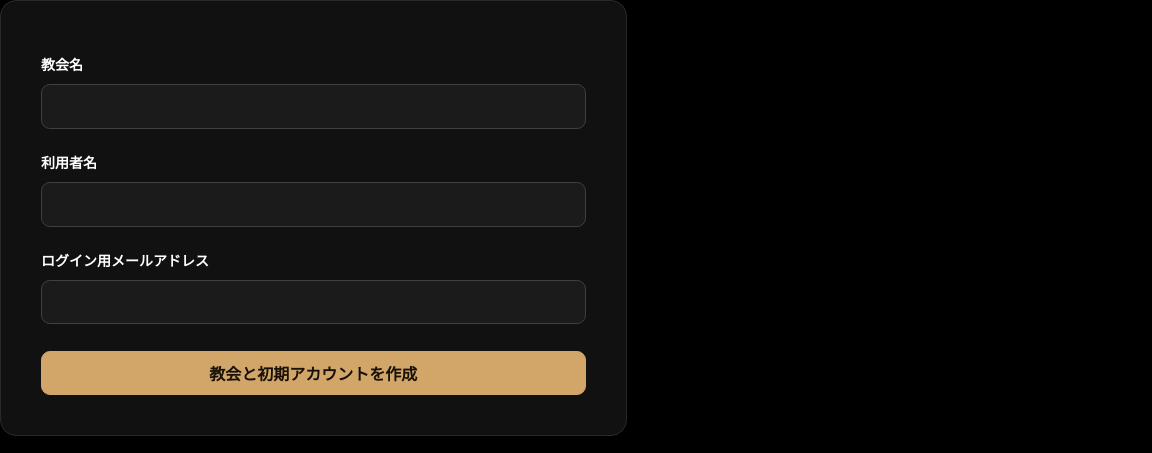
it: ProvisionChurchForm › shows the invitation destination and 72-hour validity
Type "テスト教会" into the field labelled "教会名" at (313, 106), box [41,84,586,129]
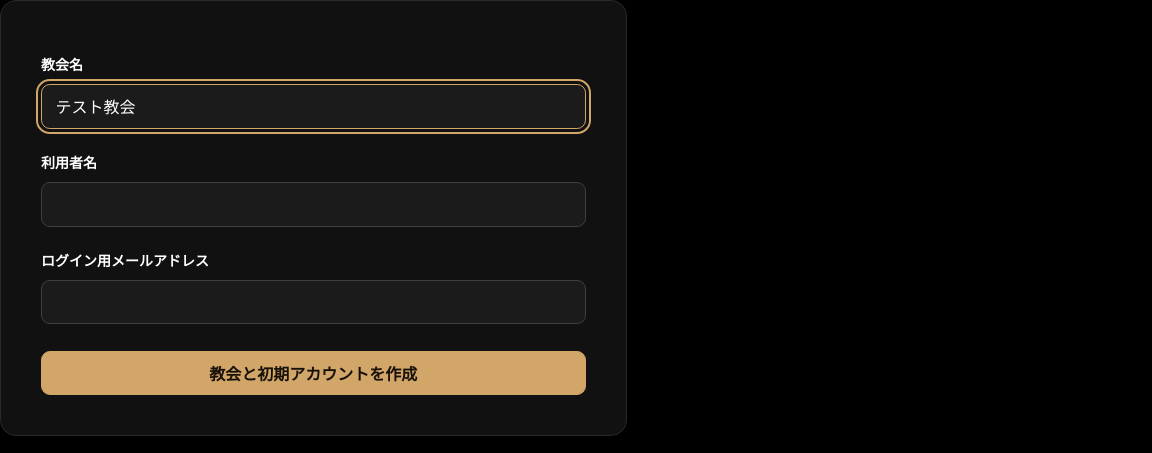
Type "教会利用者" into the field labelled "利用者名" at (313, 204), box [41,182,586,226]
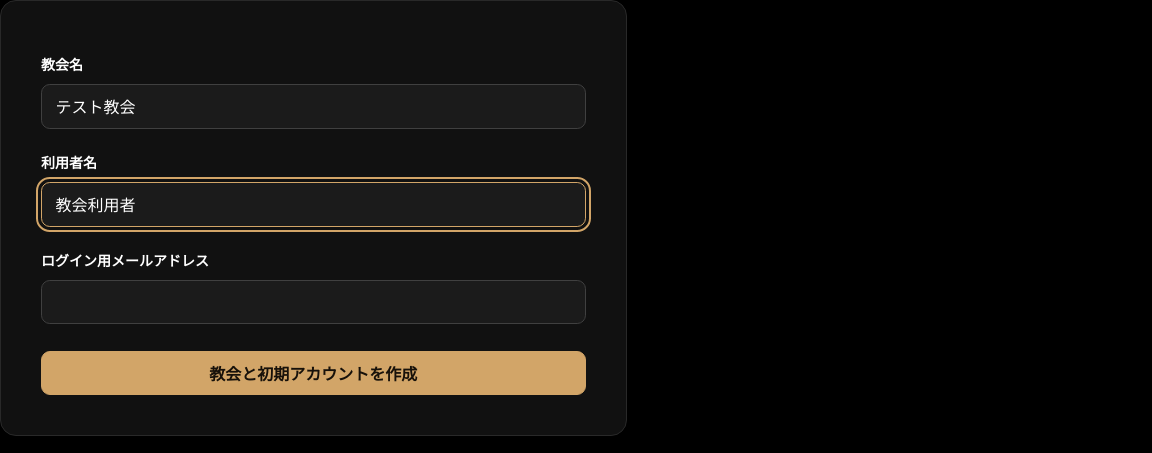
Type "church@example.invalid" into the field labelled "ログイン用メールアドレス" at (313, 302), box [41,280,586,324]
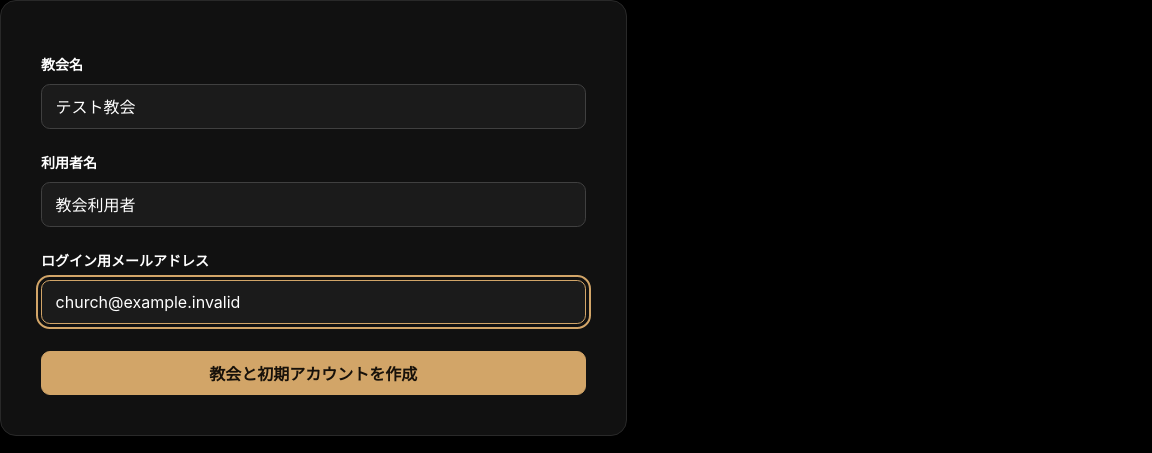
Click the button "教会と初期アカウントを作成" at (313, 373), box [41,351,586,395]
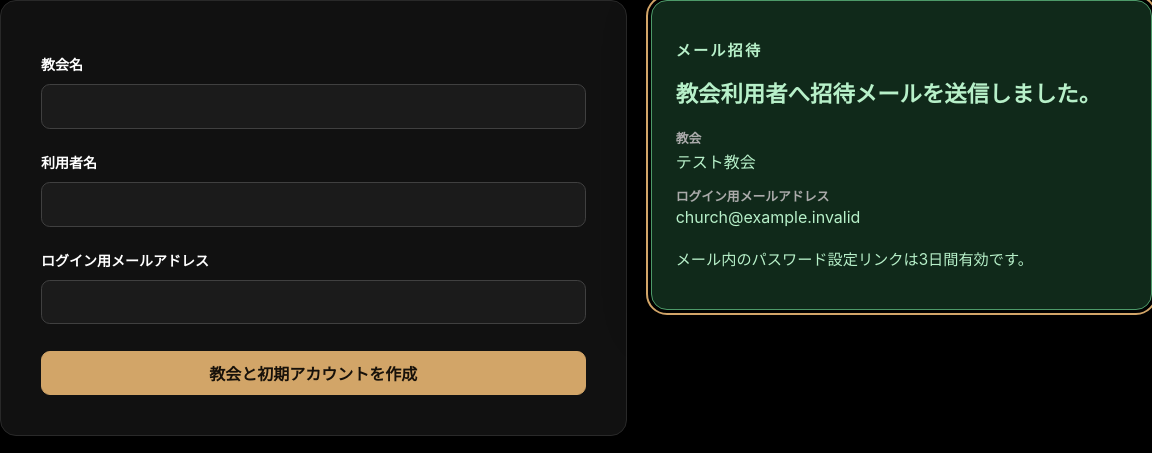
Check: the text "メール招待" is shown, box [676,41,762,60]
Check: the text "メール内のパスワード設定リンクは3日間有効です。" is shown, box [676,250,1033,269]
